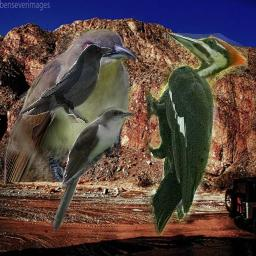Crow: (19, 44, 114, 123)
Cuckoo: (4, 29, 137, 182), (49, 106, 136, 235)
Woodpecker: (145, 33, 248, 235)
